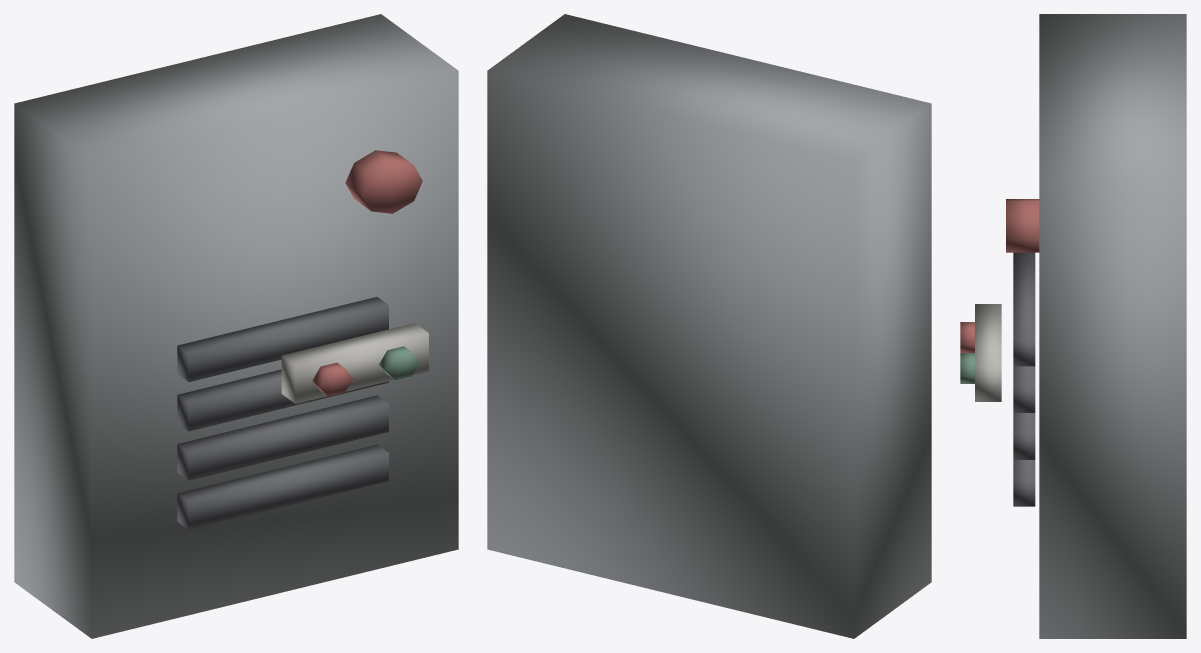
Rendered from wall_intercom__wide.glb.
The picture shows the model from 3 angles, left to right: view 1: azimuth 30°, elevation 25°; view 2: azimuth 150°, elevation 25°; view 3: azimuth 270°, elevation 25°; orthographic projection. The views are drawn at different scales.
Visible parts, largest first — view 1: world; view 2: world; view 3: world.
Part boxes in pixels (x1=…): world: x1=14, y1=14, x2=458, y2=638; world: x1=487, y1=14, x2=931, y2=638; world: x1=960, y1=14, x2=1186, y2=638.
Size of the model in its own units: 0.2728 by 0.34 by 0.1535.
